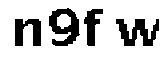9: (48, 5, 81, 51)
f: (82, 5, 106, 50)
n: (12, 14, 45, 50)
w: (113, 13, 160, 48)
